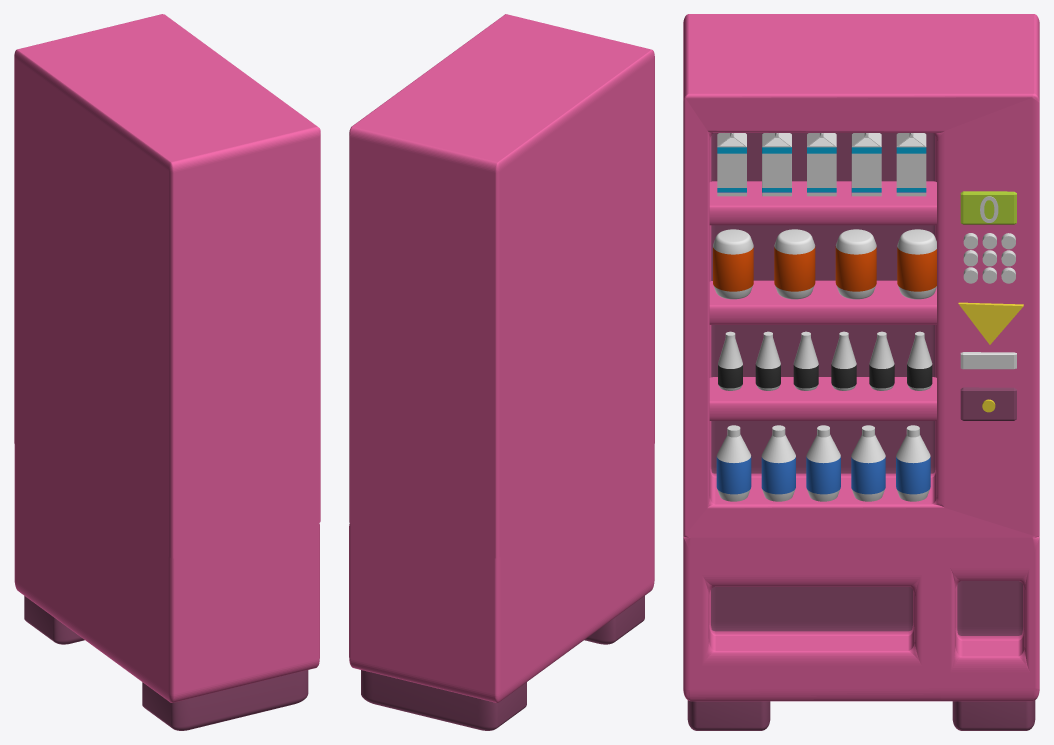
File: fending_machine_compresed4.glb
3 renders of one model, left to right at view 1: azimuth 30°, elevation 25°; view 2: azimuth 150°, elevation 25°; view 3: azimuth 270°, elevation 25°, orthographic. The views are drawn at different scales.
Visible parts, largest first — view 1: Cube.003, Cube.004; view 2: Cube.003, Cube.004; view 3: Cube.003, Cylinder.004, Cylinder.002, milk, Cylinder.003, Cube.004, Cylinder, Cube.002, Cube.001, Circle, Cube.006.
Part boxes in pixels (x1,y1,x2,y2): Cube.003: (14,14,320,702); Cube.004: (24,596,308,730); Cube.003: (349,14,654,702); Cube.004: (361,596,644,730); Cube.003: (683,14,1039,701); Cylinder.004: (716,425,930,501); Cylinder.002: (713,229,936,299); milk: (717,133,926,196); Cylinder.003: (718,331,932,390); Cube.004: (687,700,1035,730); Cylinder: (963,233,1015,283); Cube.002: (960,387,1016,420); Cube.001: (960,191,1016,224); Circle: (958,302,1023,344); Cube.006: (960,352,1016,369).
Size of what is drawn, in the model's own units: 1.8 by 6.38 by 3.19.
